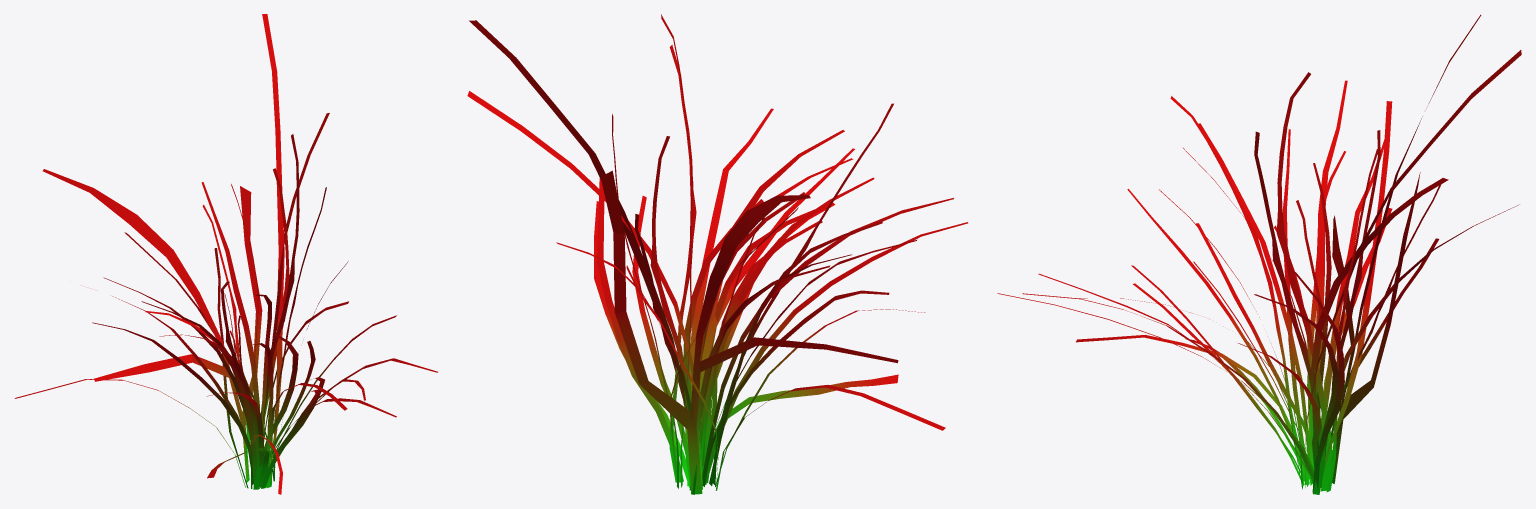
The model's file is Grass_A_Var3.FBX.
3 views of the same model, side by side, from view 1: azimuth 30°, elevation 25°; view 2: azimuth 150°, elevation 25°; view 3: azimuth 270°, elevation 25° (orthographic). The views are drawn at different scales.
Parts seen in each view (by area): view 1: Grass_A_Var3_LOD00; view 2: Grass_A_Var3_LOD00; view 3: Grass_A_Var3_LOD00.
Boxes of the visible parts, x1,y1,x2,y2 form: Grass_A_Var3_LOD00: (14,14,437,494); Grass_A_Var3_LOD00: (467,14,967,494); Grass_A_Var3_LOD00: (997,14,1521,494).
Size of what is drawn, in the model's own units: 58.57 by 64.92 by 63.23.
